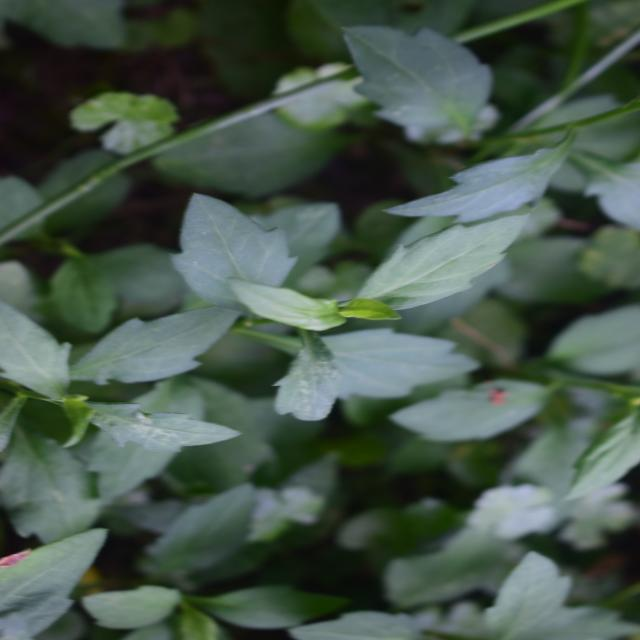Indian aster: (173, 48, 414, 481)
